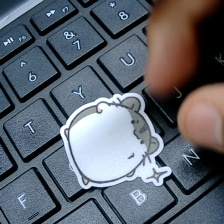mouse: (56, 92, 177, 191)
